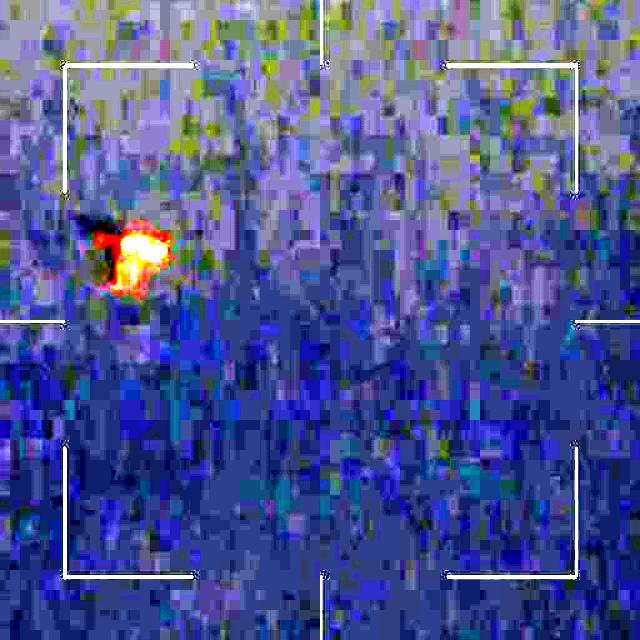bird: (80, 205, 178, 300)
